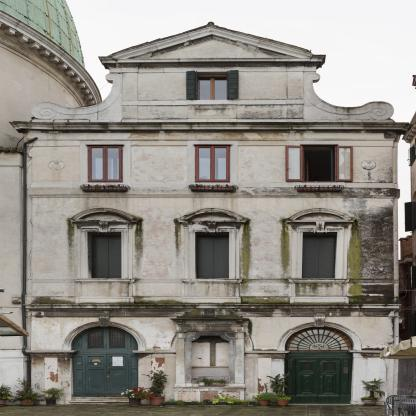Blind: (302, 232, 337, 278), (195, 232, 229, 278), (88, 232, 122, 278), (227, 70, 239, 100), (186, 71, 198, 100)
Building Outline: (8, 22, 414, 406)
Cornice: (110, 26, 324, 63), (67, 208, 140, 225), (284, 208, 357, 225), (176, 208, 249, 225)
Deco: (169, 309, 250, 404)
Door: (285, 352, 351, 404), (72, 352, 138, 397)
Facade: (32, 129, 400, 406)
Floor: (32, 202, 400, 305), (32, 129, 400, 202)
Floor Slab: (32, 122, 400, 128), (32, 299, 400, 305), (32, 195, 400, 201)
Ground Floor: (32, 305, 400, 406)
Molding: (8, 121, 414, 131)
Sill: (288, 279, 351, 284), (74, 278, 137, 283), (181, 279, 244, 284), (187, 100, 237, 105)
Top Floor: (113, 58, 313, 128)
Window: (285, 326, 354, 351), (302, 232, 337, 278), (71, 326, 138, 350), (195, 232, 229, 278), (88, 232, 122, 278), (195, 145, 231, 183), (301, 145, 337, 183), (88, 145, 124, 182), (195, 71, 228, 100)
